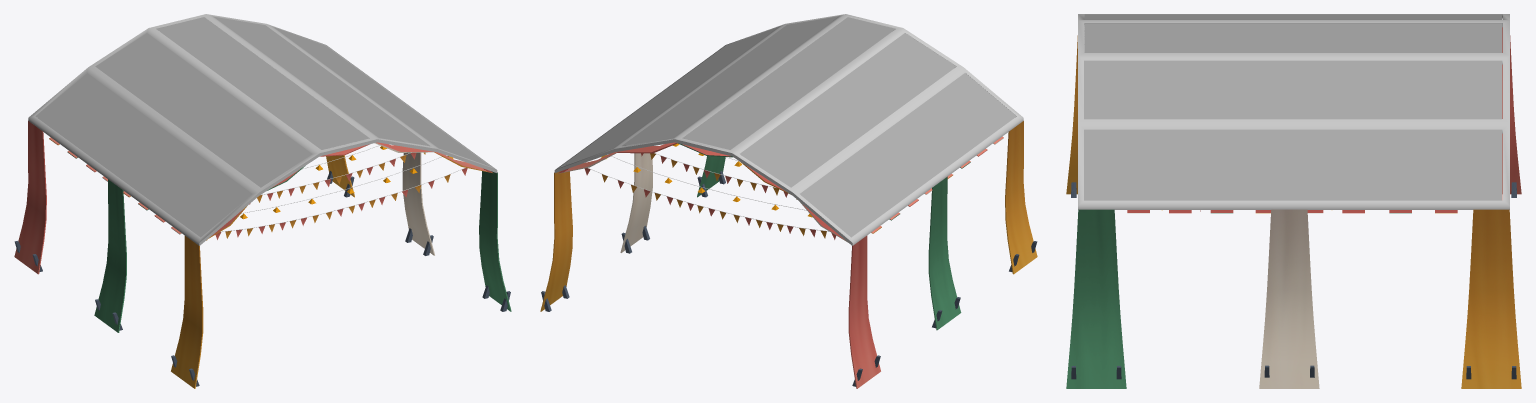
Rendered from Roof_Art.fbx.
The picture shows the model from 3 angles, left to right: view 1: azimuth 30°, elevation 25°; view 2: azimuth 150°, elevation 25°; view 3: azimuth 270°, elevation 25°; orthographic projection. The views are drawn at different scales.
Visible parts, largest first — view 1: Oktoberfest_Roof; view 2: Oktoberfest_Roof; view 3: Oktoberfest_Roof.
Part boxes in pixels (x1=…): Oktoberfest_Roof: x1=14, y1=14, x2=511, y2=388; Oktoberfest_Roof: x1=540, y1=14, x2=1037, y2=388; Oktoberfest_Roof: x1=1066, y1=14, x2=1521, y2=388.
Size of the model in its own units: 4180 by 2503 by 4077.
